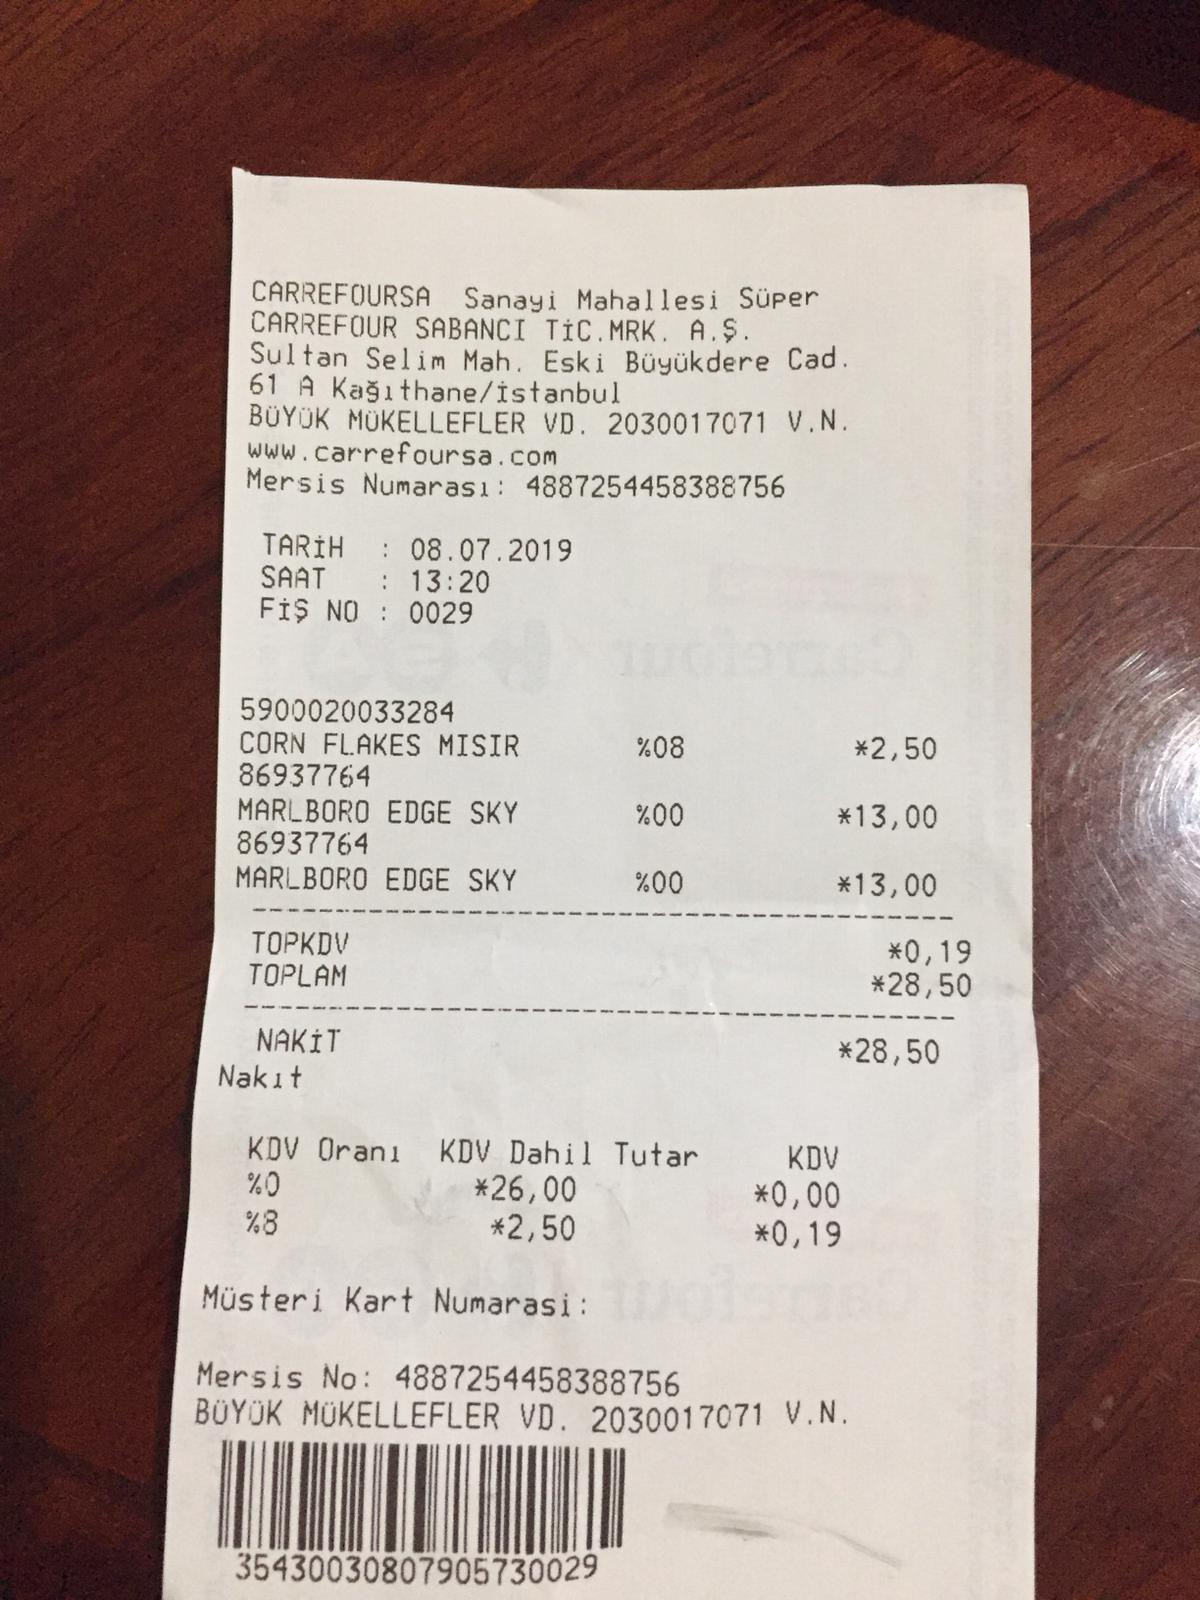total: (247, 955, 982, 1001)
